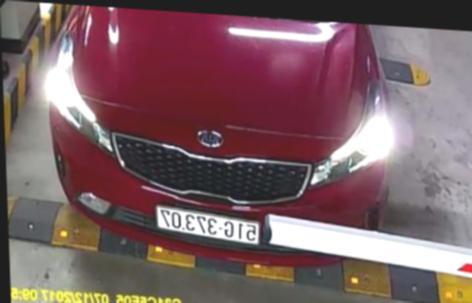License_Plate: (150, 202, 262, 245)
